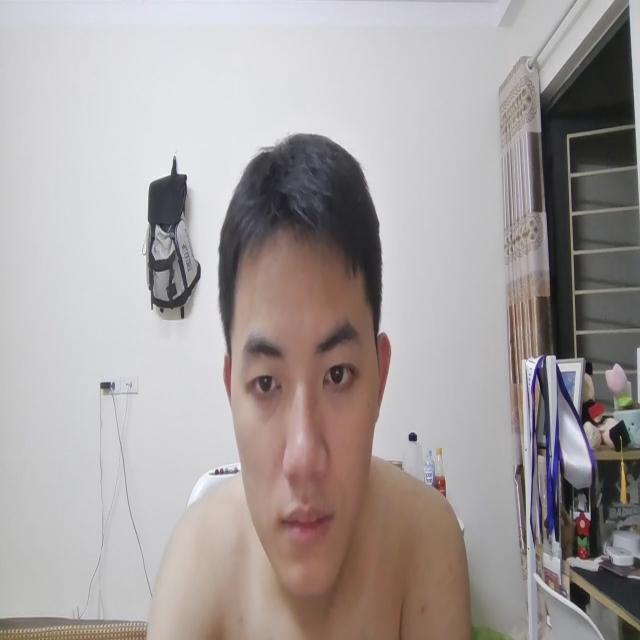student: (134, 126, 470, 640)
